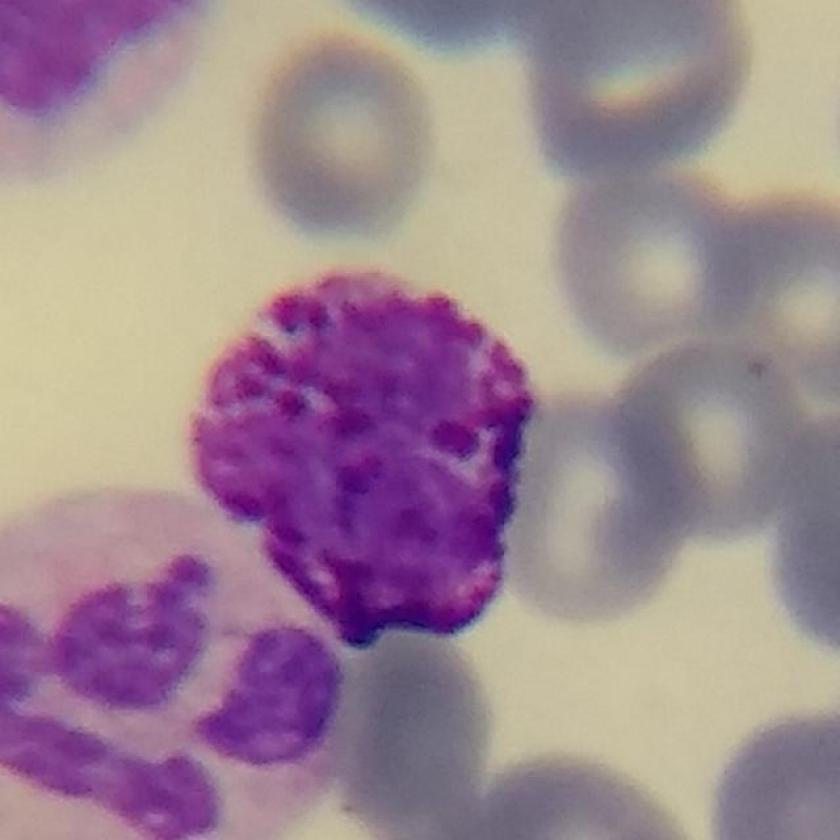basophil: (189, 254, 552, 656)
